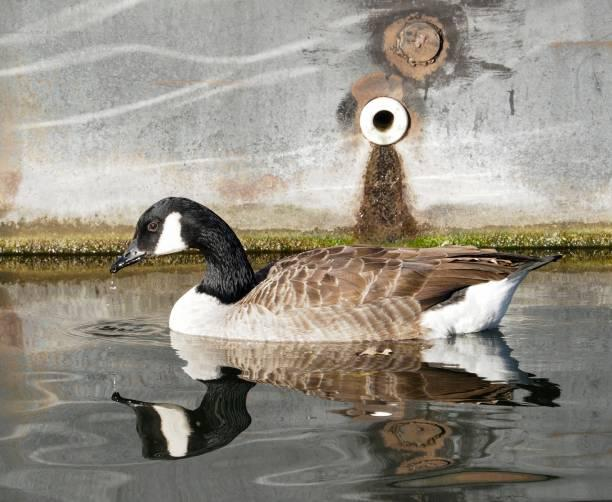Canadian-Goose: (110, 193, 558, 344)
